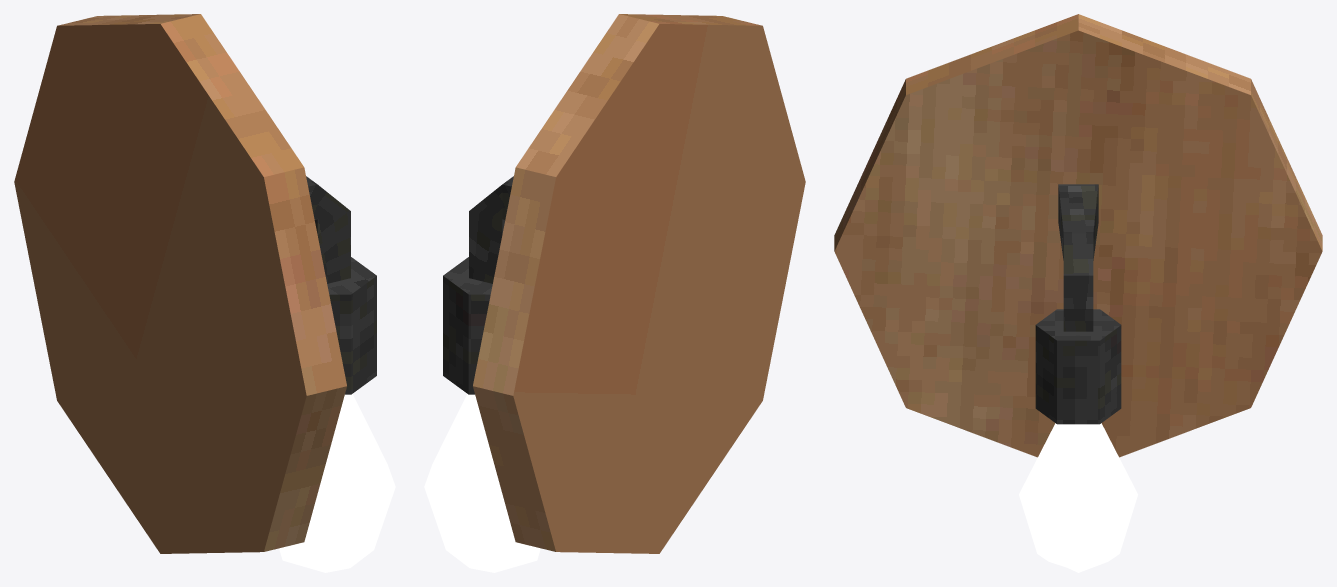
The model's file is wallLight.glb.
3 renders of one model, left to right at view 1: azimuth 30°, elevation 25°; view 2: azimuth 150°, elevation 25°; view 3: azimuth 270°, elevation 25°, orthographic. The views are drawn at different scales.
Visible parts, largest first — view 1: wallLight; view 2: wallLight; view 3: wallLight.
Boxes of the visible parts, <box> form: wallLight: <box>14,14,395,572</box>; wallLight: <box>424,14,805,572</box>; wallLight: <box>834,14,1322,572</box>.
Bounding box in the file's own units: 0.1494 × 0.3705 × 0.3333.
1 material, 1 textured.
